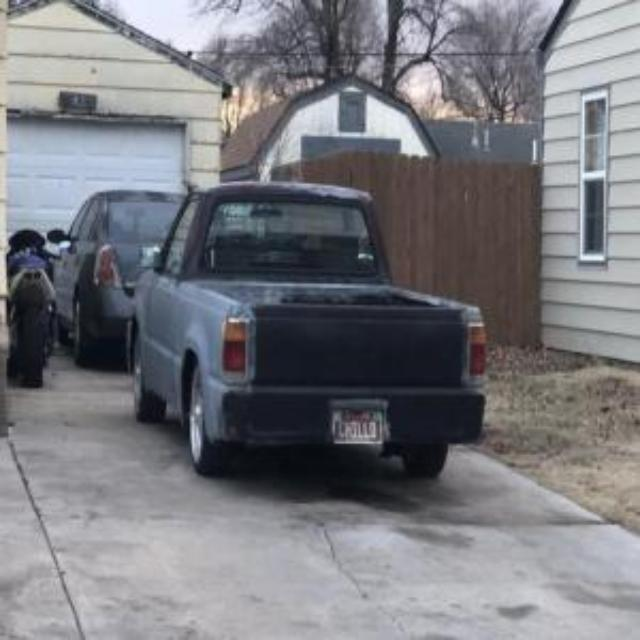License Plate: (332, 407, 385, 445)
